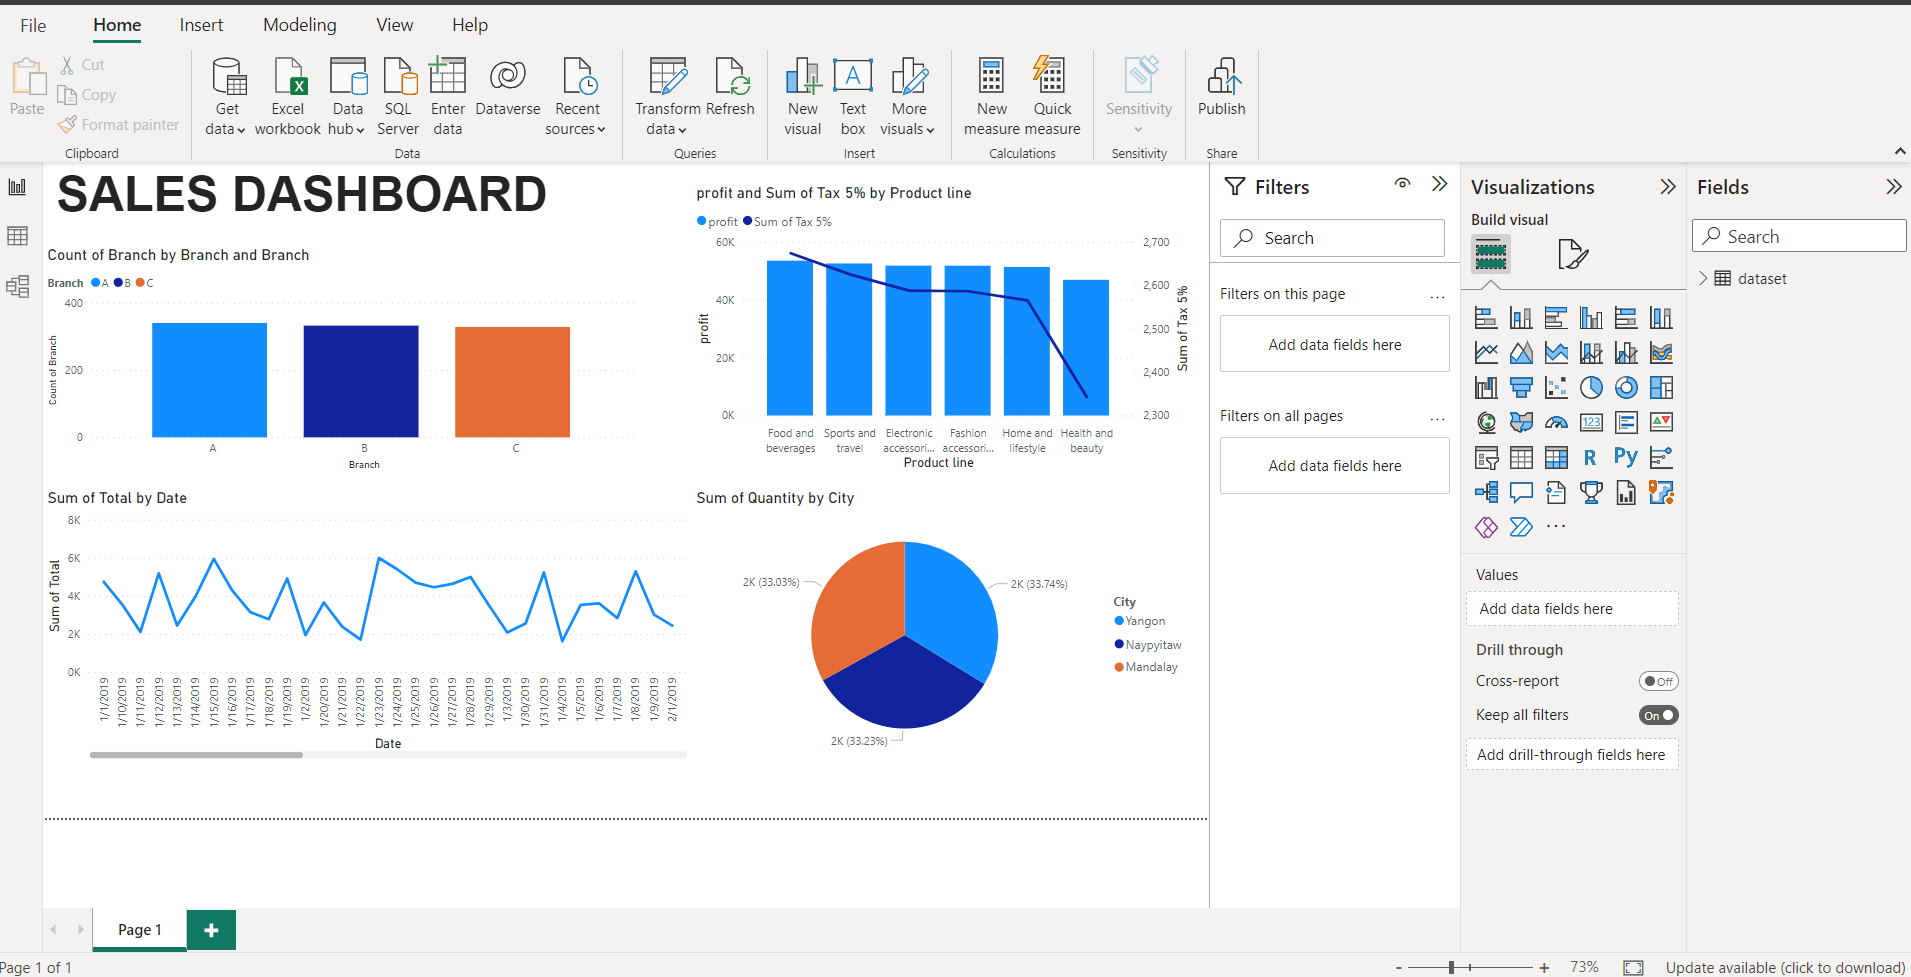

Layout of this report page (visuals, bound fields, positions):
{"tool":"powerbi","page":{"name":"Page 1","canvas":[1280,720],"ordinal":0},"visuals":[{"type":"textbox","box":[9.6,0,702.6,91.9],"z":0},{"type":"columnChart","fields":{"Category":["dataset.Branch"],"Series":["dataset.Branch"],"Y":["CountNonNull(dataset.Branch)"]},"box":[0,91.9,657.3,251.1],"z":1},{"type":"lineChart","fields":{"Category":["dataset.Date"],"Y":["Sum(dataset.Total)"]},"box":[0,358.1,712.2,301.9],"z":2},{"type":"lineClusteredColumnComboChart","fields":{"Category":["dataset.Product line"],"Y":["dataset.profit"],"Y2":["Sum(dataset.Tax 5%)"]},"box":[712.2,23.3,551.6,319.7],"z":3},{"type":"pieChart","fields":{"Category":["dataset.City"],"Y":["Sum(dataset.Quantity)"]},"box":[712,358,552,302],"z":4}]}

Visuals, with their boxes on the page's 1280x720 design canvas (x1, y1, x2, y2). These are canvas units, not pixel positions in the 1911x977 screenshot, which may show the page scaled, cropped or inside an application window:
textbox: [10,0,712,92]
columnChart - dataset.Branch x dataset.Branch: [0,92,657,343]
lineChart - dataset.Date x Sum(dataset.Total): [0,358,712,660]
lineClusteredColumnComboChart - dataset.Product line x dataset.profit: [712,23,1264,343]
pieChart - dataset.City x Sum(dataset.Quantity): [712,358,1264,660]
